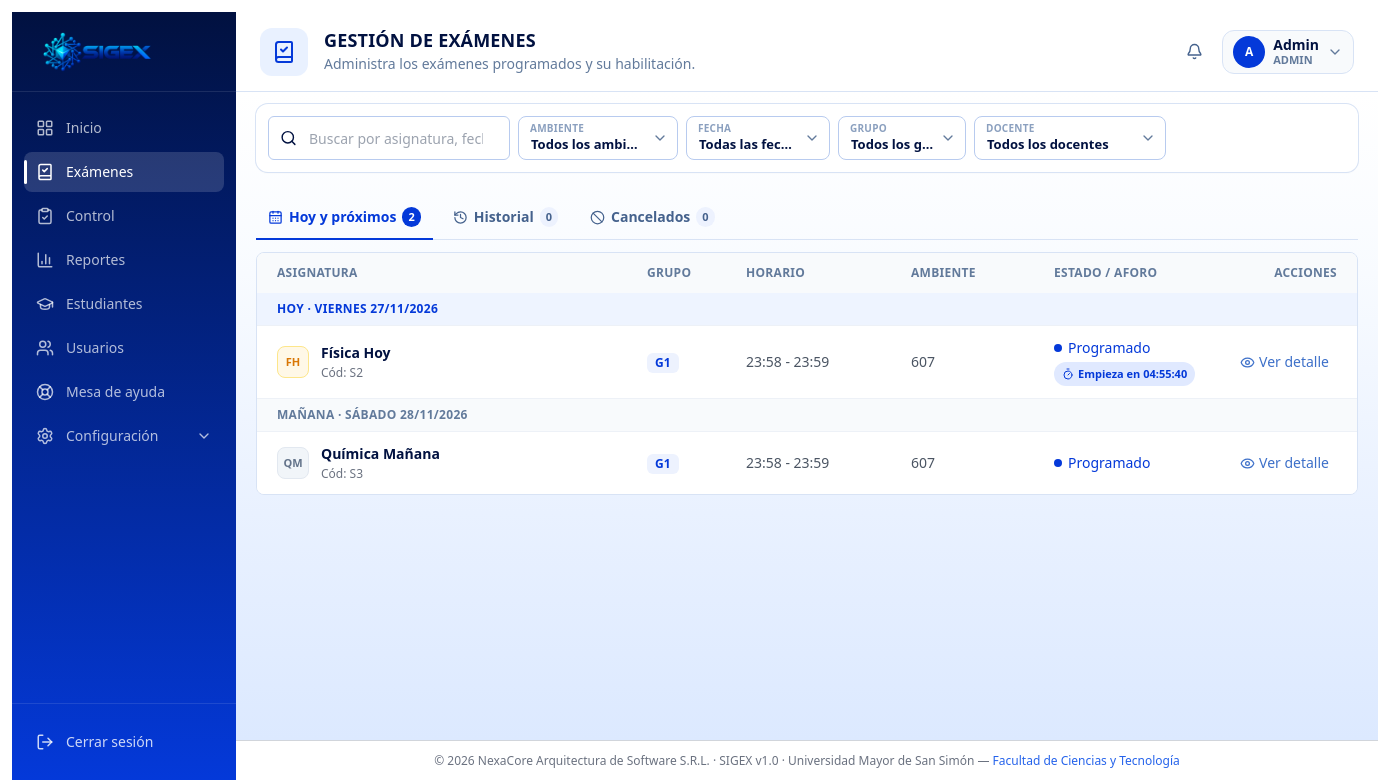
Scenario: El ADMIN filtra por docente › deja solo los exámenes de ese docente
Select "Ana Rojas" in the dropdown named "Filtrar por docente" at (1070, 138), box [974,116,1166,160]
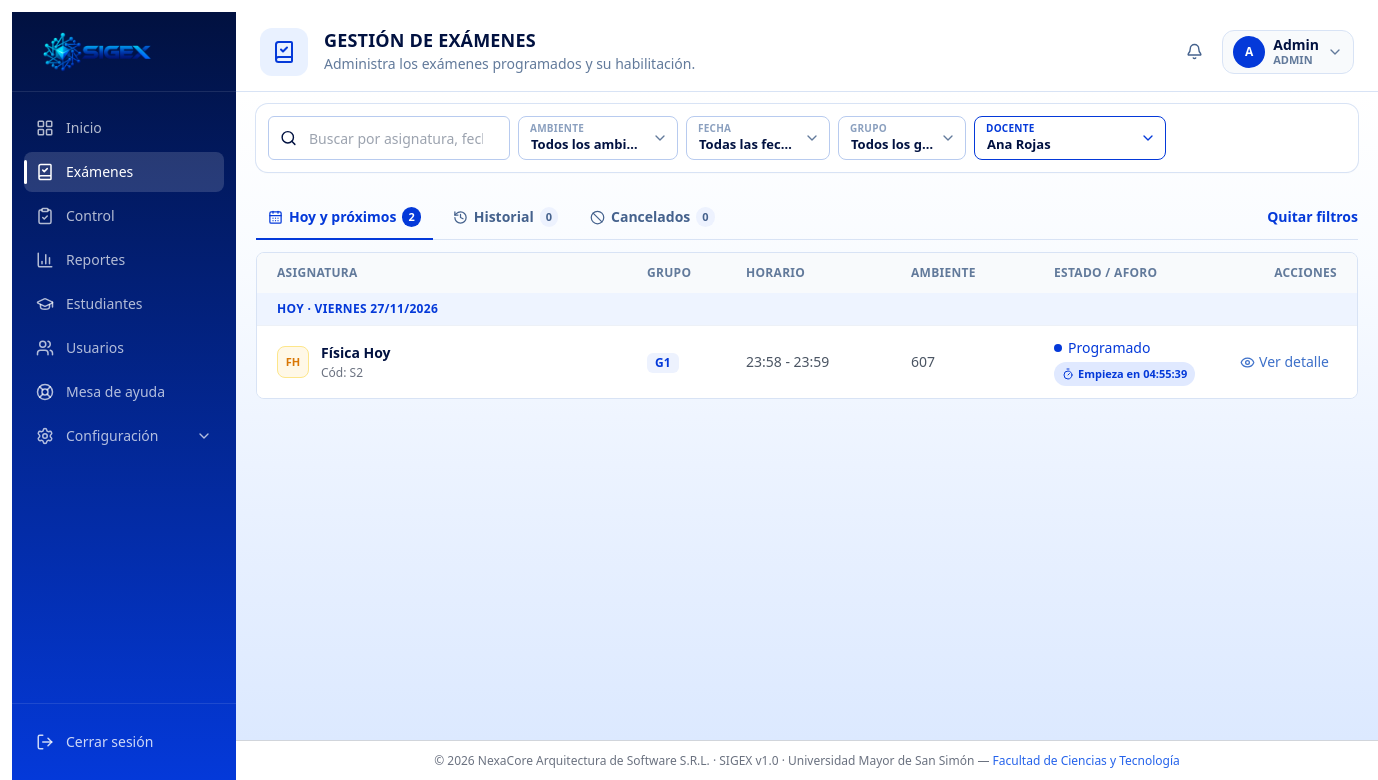
Expected: the text "Física Hoy" is shown, [321,343,390,363]
Expected: the text "Química Mañana" is gone
